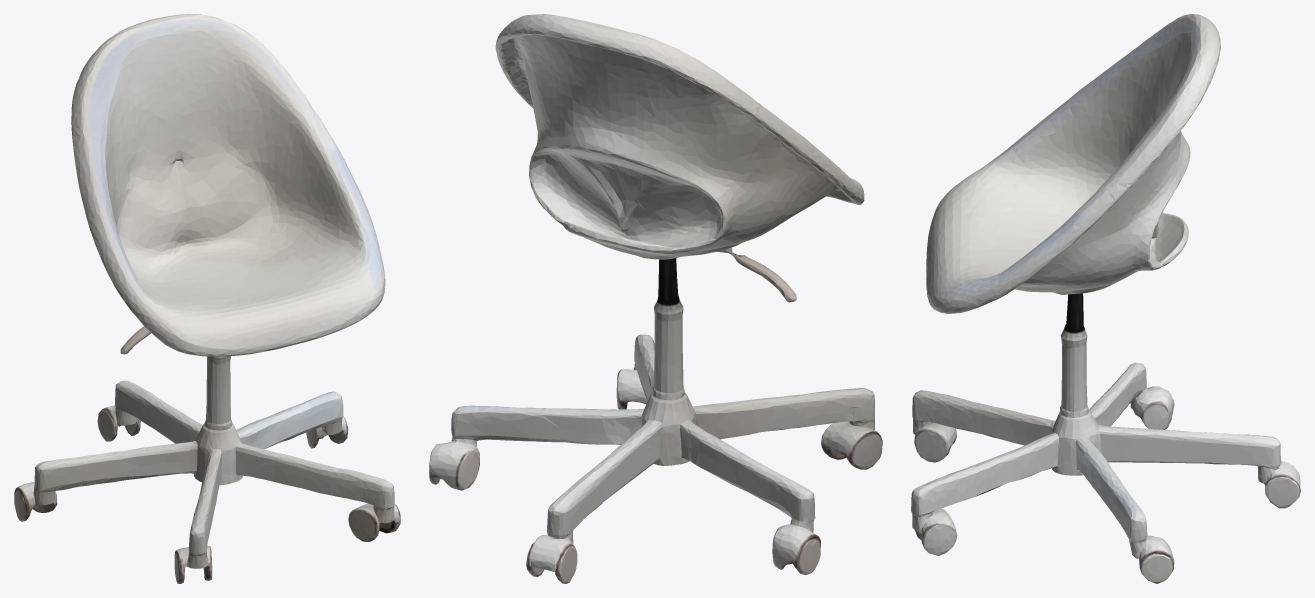
File: ast_00e00df1bfeb.glb
3 views of the same model, side by side, from view 1: azimuth 30°, elevation 25°; view 2: azimuth 150°, elevation 25°; view 3: azimuth 270°, elevation 25° (orthographic). The views are drawn at different scales.
Parts seen in each view (by area): view 1: geometry_0; view 2: geometry_0; view 3: geometry_0.
Boxes of the visible parts, box(x1,y1,x2,y2) form: geometry_0: box(14, 14, 400, 583); geometry_0: box(429, 14, 882, 583); geometry_0: box(911, 14, 1300, 583).
Size of the model in its own units: 0.7617 by 1 by 0.7565.
Materials: 1 (1 with a texture image).
